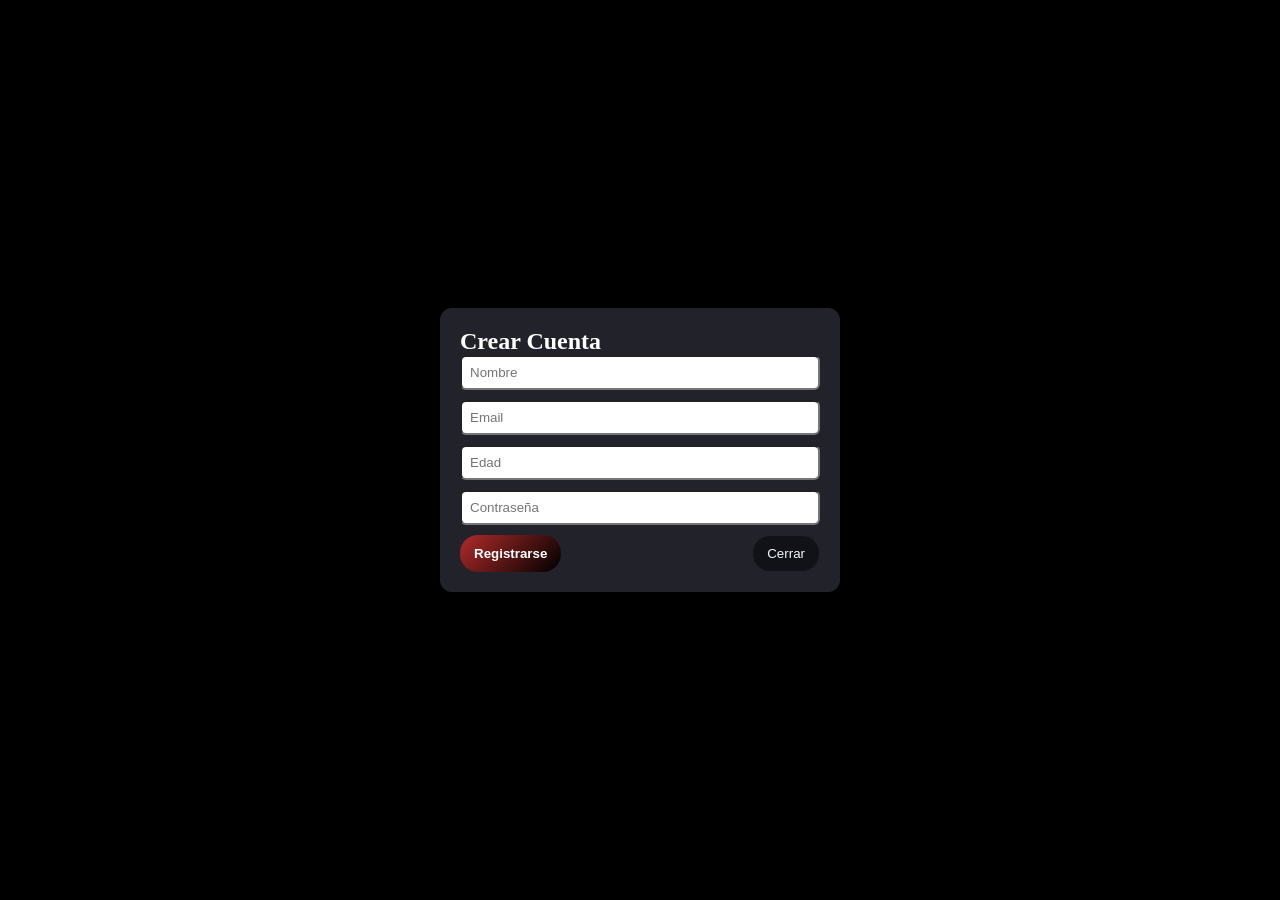
Registro component › muestra mensaje de error si edad < 18
This screenshot has width=1280, height=900.
Type "Brayan" into the field with placeholder "Nombre".
click(640, 372); type("Brayan")  # box [460,355,820,390]
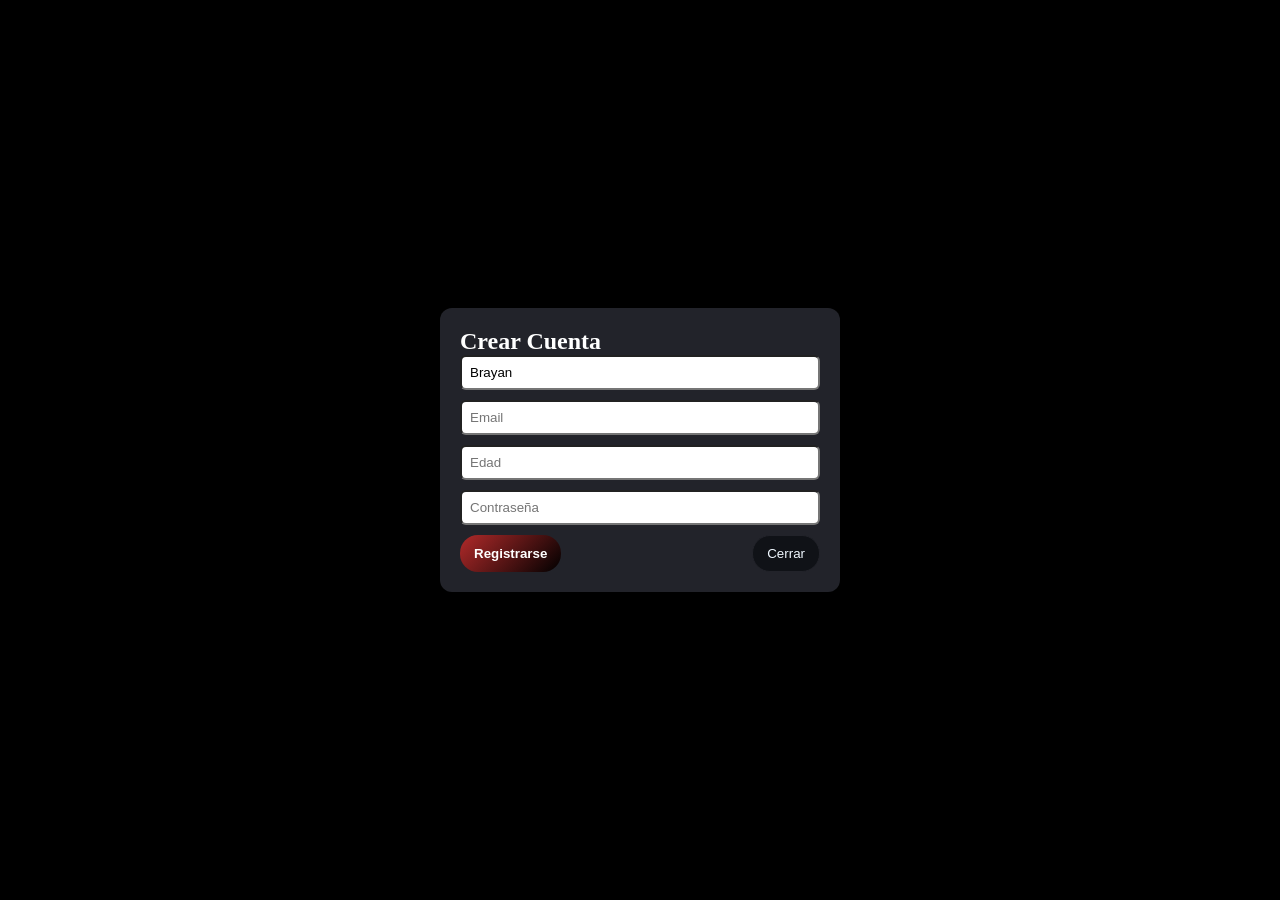
Type "test@example.com" into the field with placeholder "Email".
click(640, 418); type("test@example.com")  # box [460,400,820,435]
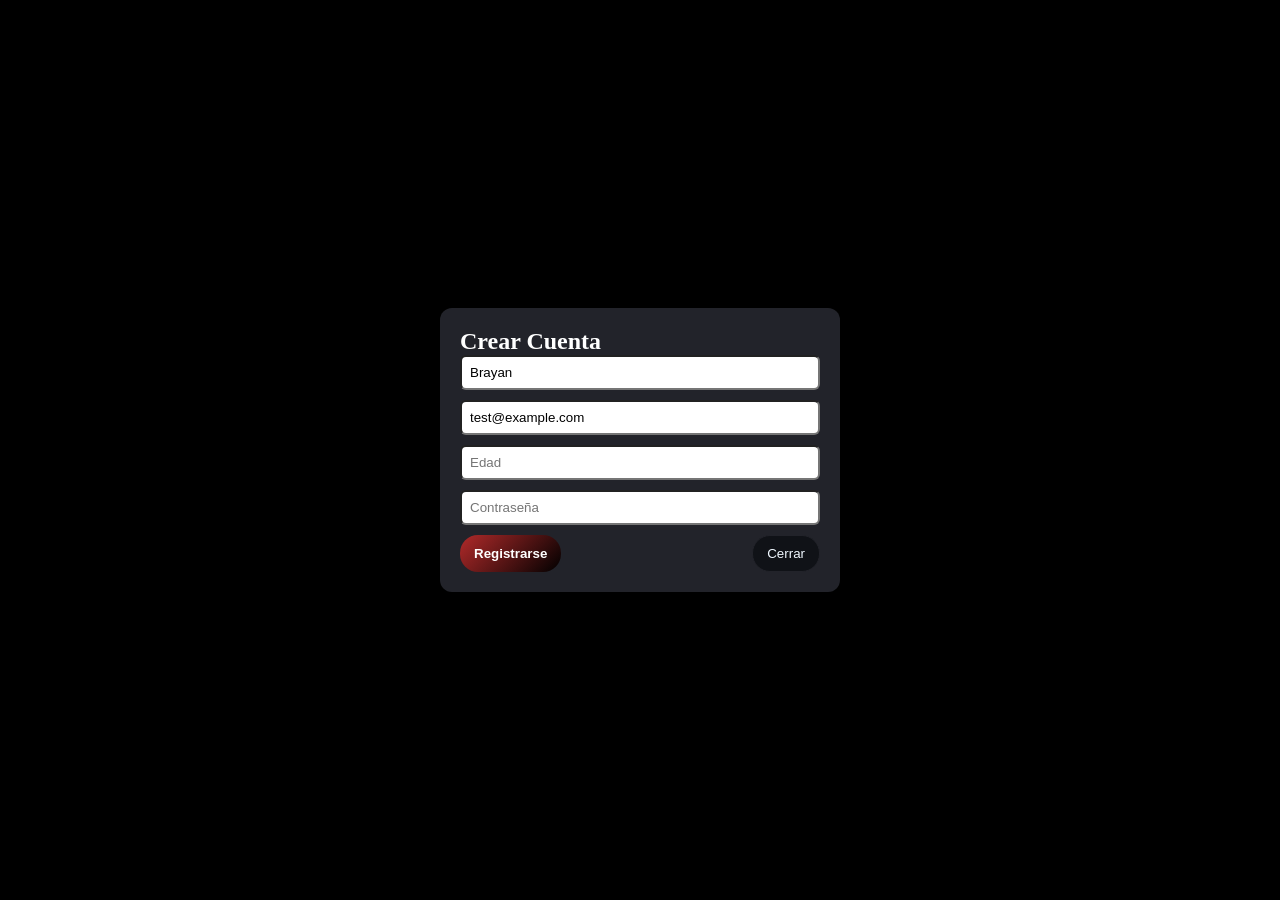
Type "16" into the number field with placeholder "Edad".
click(640, 462); type("16")  # box [460,445,820,480]
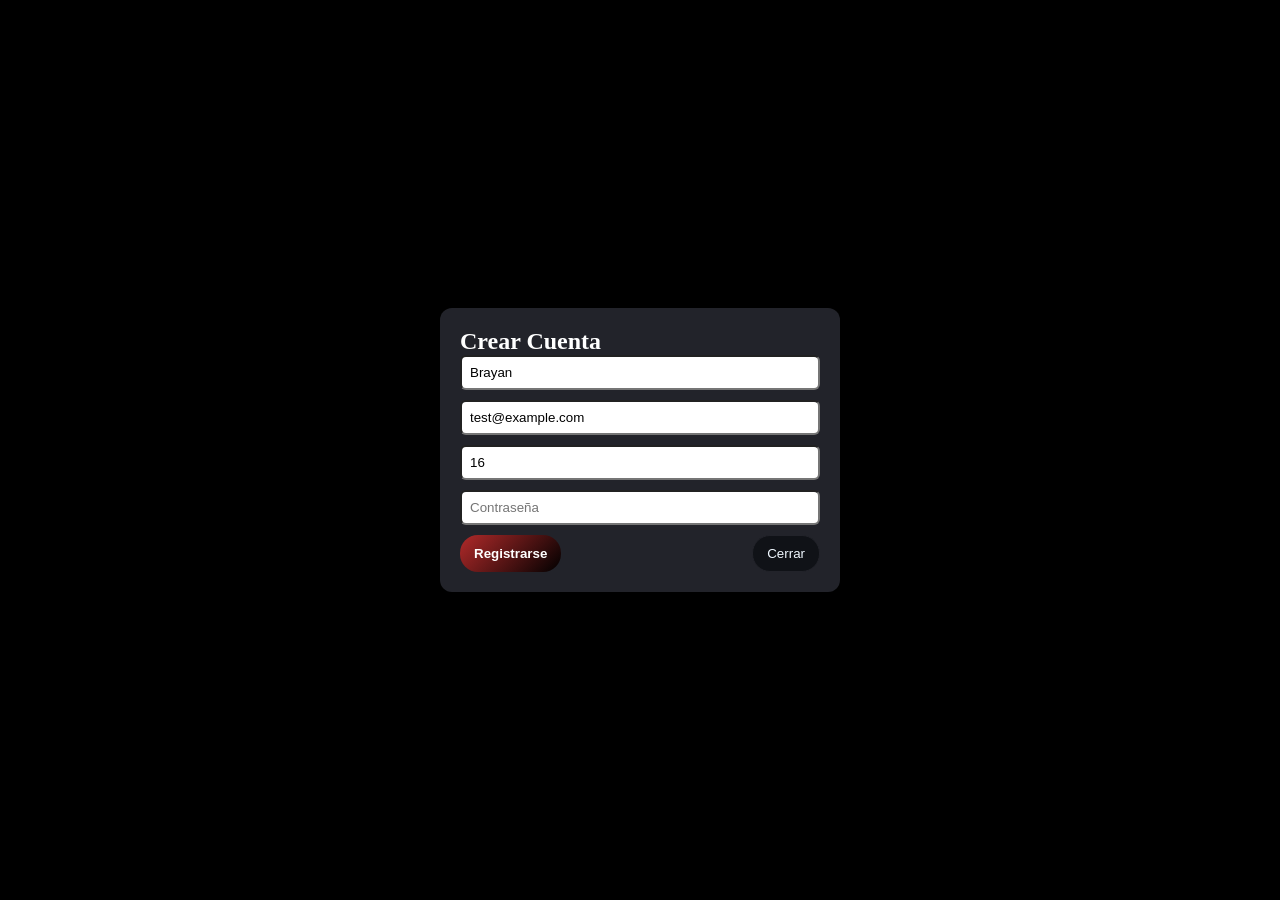
Type "1234" into the password field with placeholder "Contraseña".
click(640, 508); type("1234")  # box [460,490,820,525]
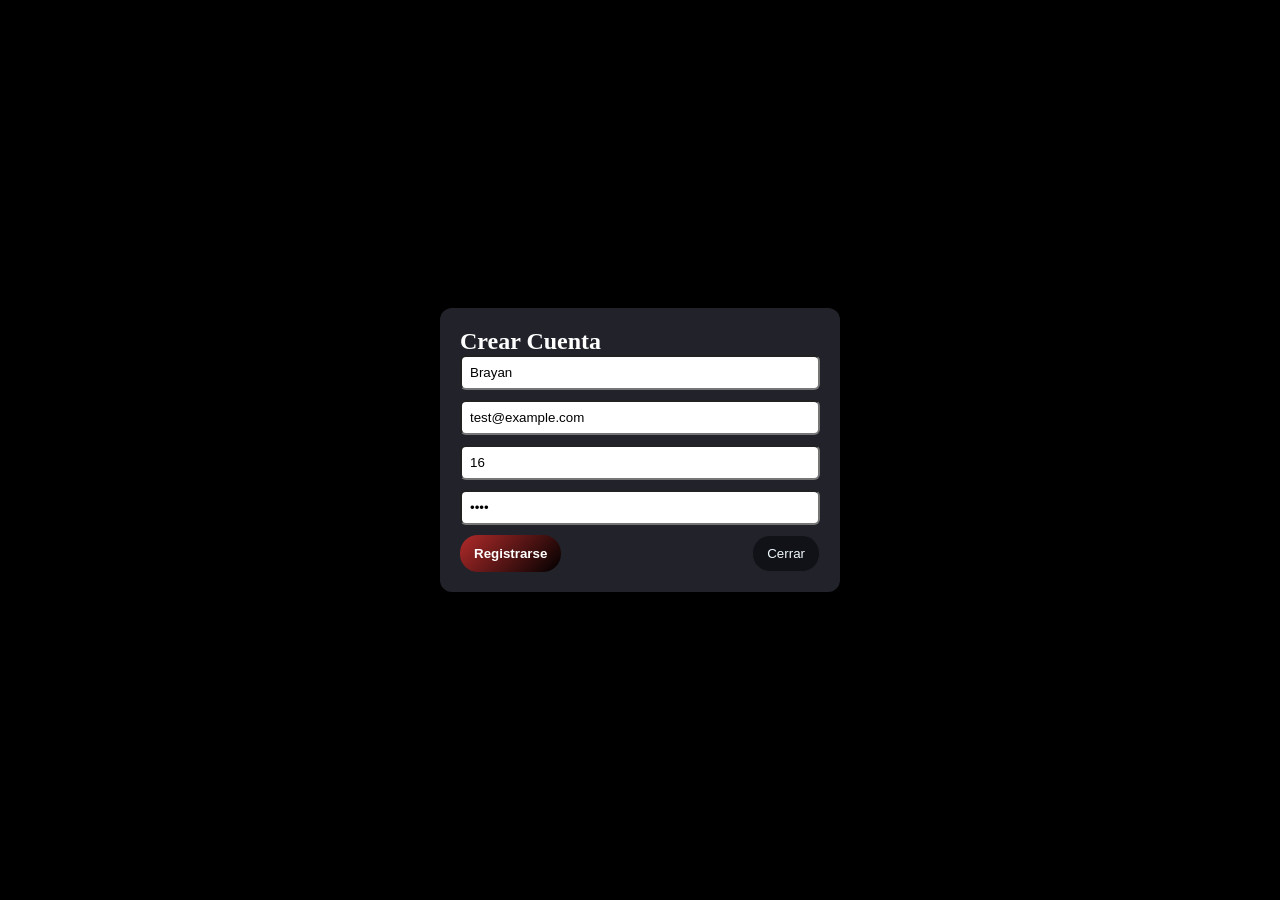
Click the button "Registrarse".
click(511, 554)  # box [460,535,561,572]
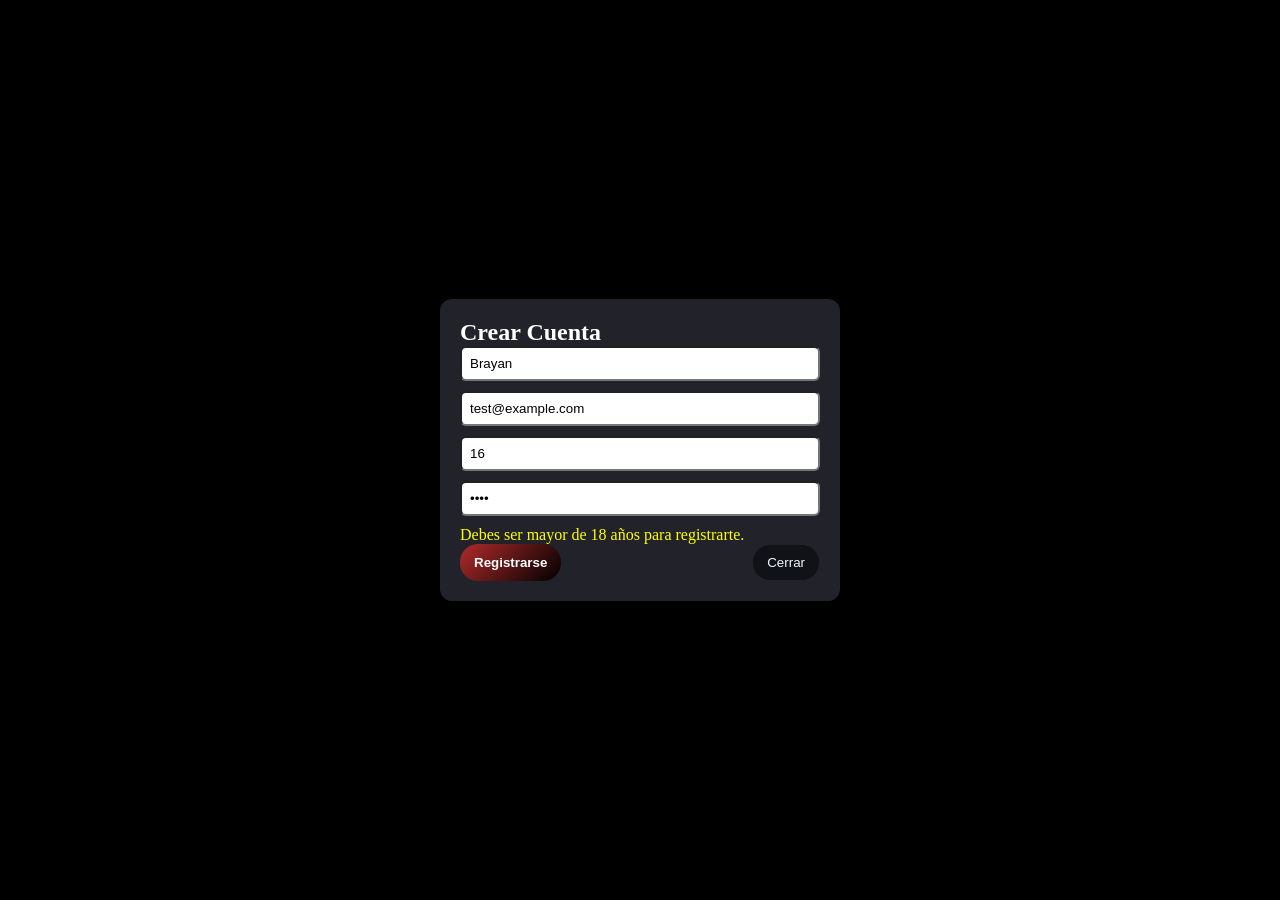
Expected: the text "Debes ser mayor de 18 años para registrarte." is shown, [460,526,744,543]
